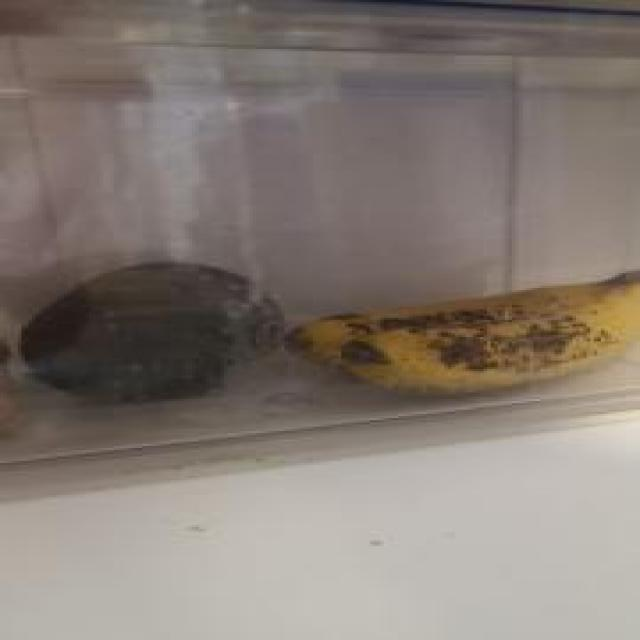avocado: (16, 260, 290, 408)
banana: (330, 271, 640, 397), (284, 267, 640, 371)
